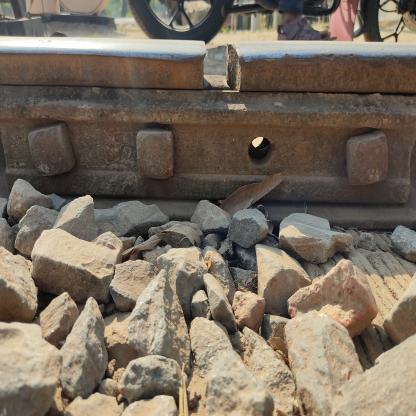Defective 2: (172, 27, 258, 102)
Defective 3: (0, 75, 415, 216)
